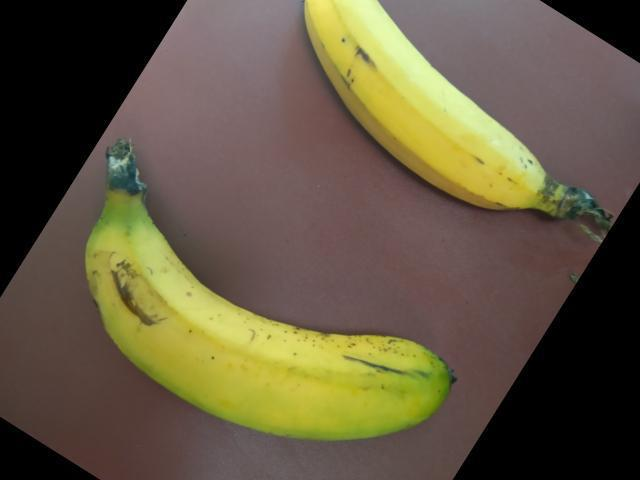freshripe: (287, 0, 551, 214)
ripe: (75, 193, 464, 451)
